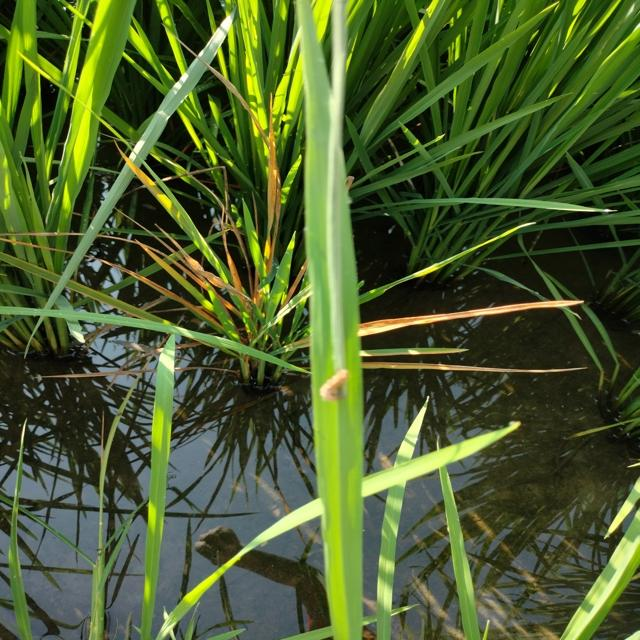Brown spot: (162, 23, 263, 143), (357, 298, 587, 338), (112, 135, 178, 215), (214, 205, 250, 308), (362, 361, 587, 375), (153, 219, 207, 272), (264, 91, 276, 274), (182, 161, 235, 201), (360, 347, 470, 356)
